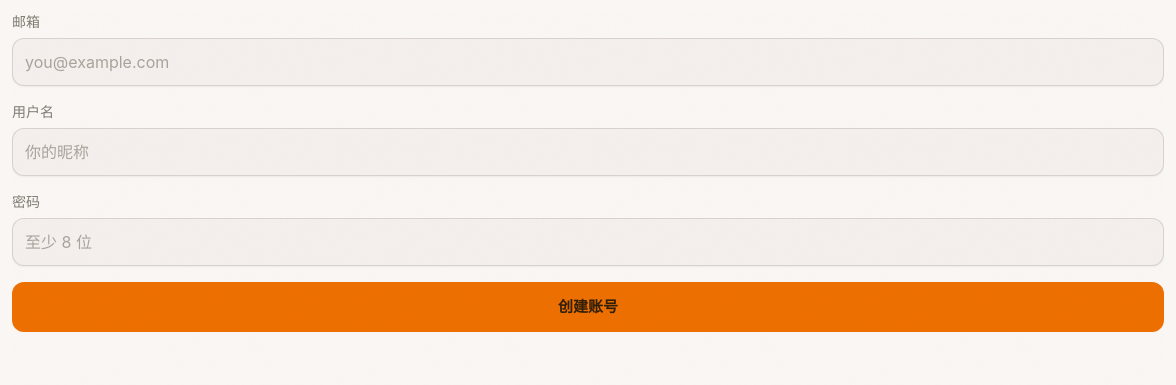
it: RegisterForm › shows server error on 409 response
Type "a@b.com" into the field labelled "邮箱".
click(588, 62); type("a@b.com")  # box [12, 38, 1164, 86]
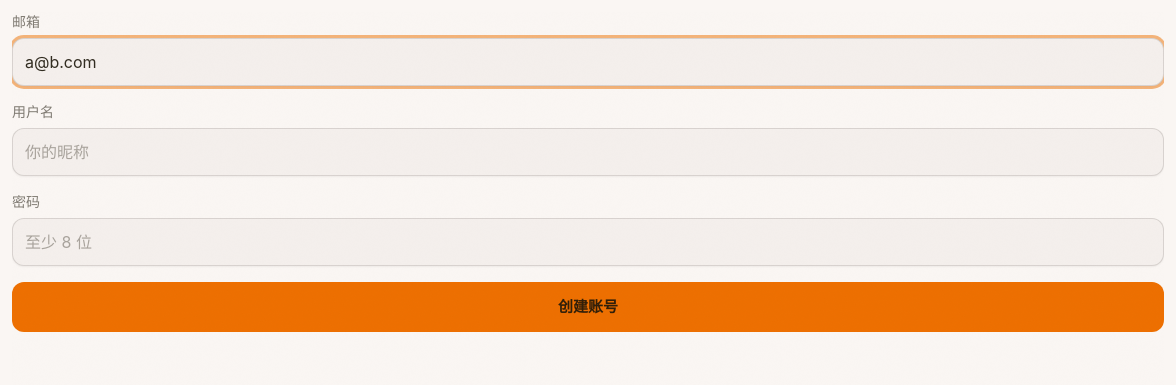
Type "testuser" into the field labelled "用户名".
click(588, 152); type("testuser")  # box [12, 128, 1164, 176]
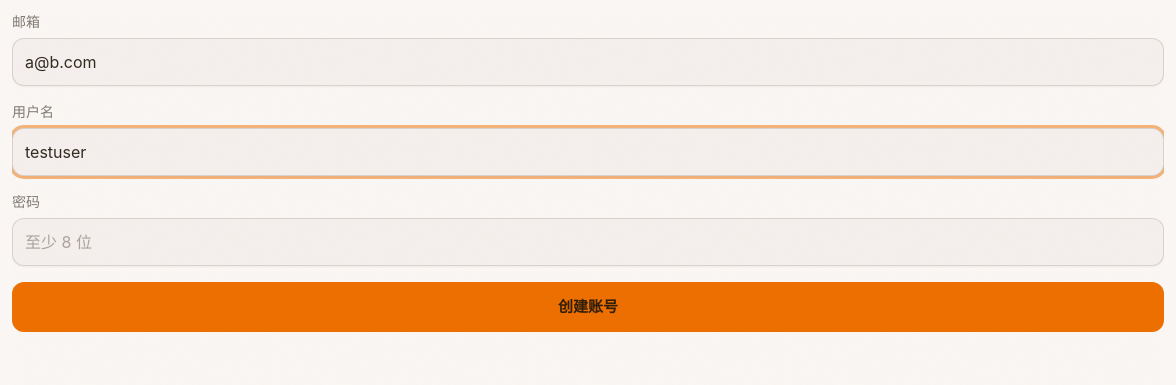
Type "password123" into the password field labelled "密码".
click(588, 242); type("password123")  # box [12, 218, 1164, 266]
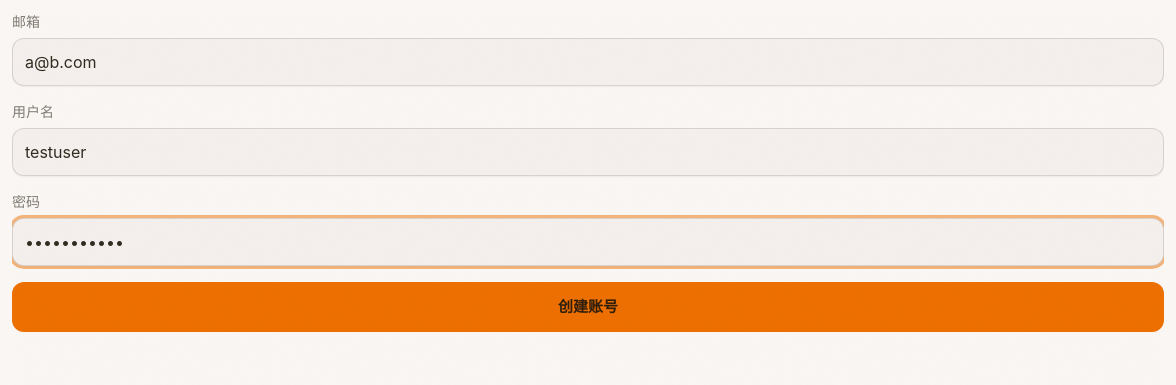
Click the button.
click(588, 307)  # box [12, 282, 1164, 332]
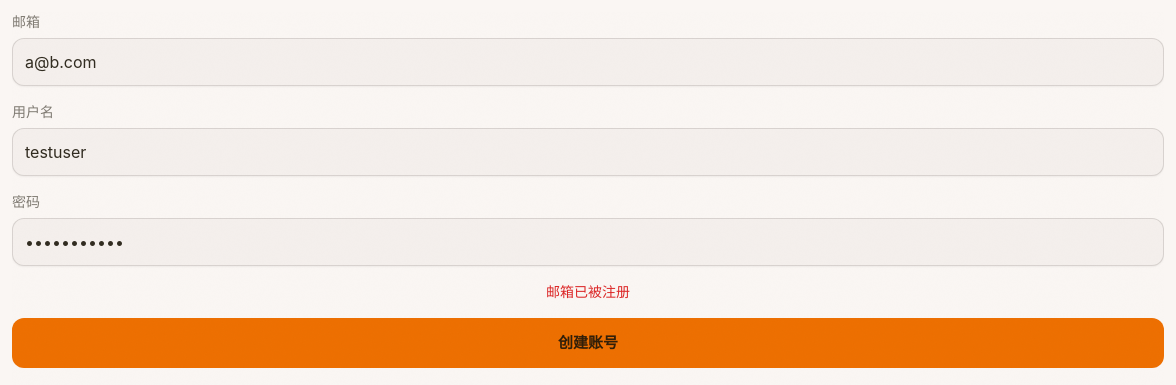
Result: the text "邮箱已被注册" is shown at [546, 283, 630, 300]
